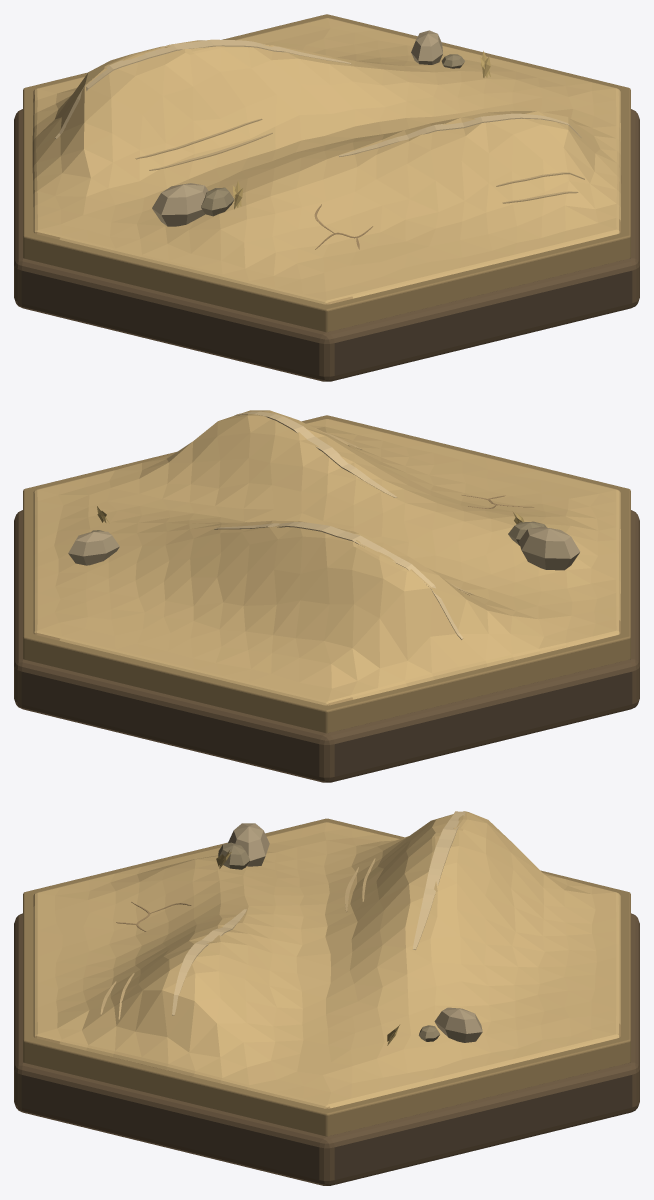
File: desert.glb
3 renders of one model, top to bottom at view 1: azimuth 30°, elevation 25°; view 2: azimuth 150°, elevation 25°; view 3: azimuth 270°, elevation 25°, orthographic.
Parts seen in each view (by area): view 1: Hex_Desert_Terrain, Hex_Desert_Base, Hex_Desert_Rim, Hex_Desert_Weathered_Stones, Hex_Desert_Dune_Crests, Hex_Desert_Wind_Ripples; view 2: Hex_Desert_Terrain, Hex_Desert_Base, Hex_Desert_Rim, Hex_Desert_Weathered_Stones, Hex_Desert_Dune_Crests; view 3: Hex_Desert_Terrain, Hex_Desert_Base, Hex_Desert_Rim, Hex_Desert_Weathered_Stones, Hex_Desert_Dune_Crests, Hex_Desert_Wind_Ripples.
Part boxes in pixels (bbox=[...]): Hex_Desert_Terrain: bbox=[32, 18, 621, 304]; Hex_Desert_Base: bbox=[14, 109, 639, 381]; Hex_Desert_Rim: bbox=[23, 14, 630, 332]; Hex_Desert_Weathered_Stones: bbox=[152, 30, 464, 226]; Hex_Desert_Dune_Crests: bbox=[55, 39, 581, 156]; Hex_Desert_Wind_Ripples: bbox=[135, 118, 584, 203]; Hex_Desert_Terrain: bbox=[33, 410, 620, 705]; Hex_Desert_Base: bbox=[14, 510, 639, 782]; Hex_Desert_Rim: bbox=[23, 415, 630, 733]; Hex_Desert_Weathered_Stones: bbox=[68, 521, 580, 570]; Hex_Desert_Dune_Crests: bbox=[214, 411, 463, 639]; Hex_Desert_Terrain: bbox=[33, 811, 620, 1108]; Hex_Desert_Base: bbox=[14, 913, 639, 1185]; Hex_Desert_Rim: bbox=[23, 818, 630, 1136]; Hex_Desert_Weathered_Stones: bbox=[218, 823, 482, 1042]; Hex_Desert_Dune_Crests: bbox=[172, 811, 465, 1015]; Hex_Desert_Wind_Ripples: bbox=[100, 858, 375, 1019].
Bounding box in the file's own units: 2.38 × 0.599 × 2.08.
